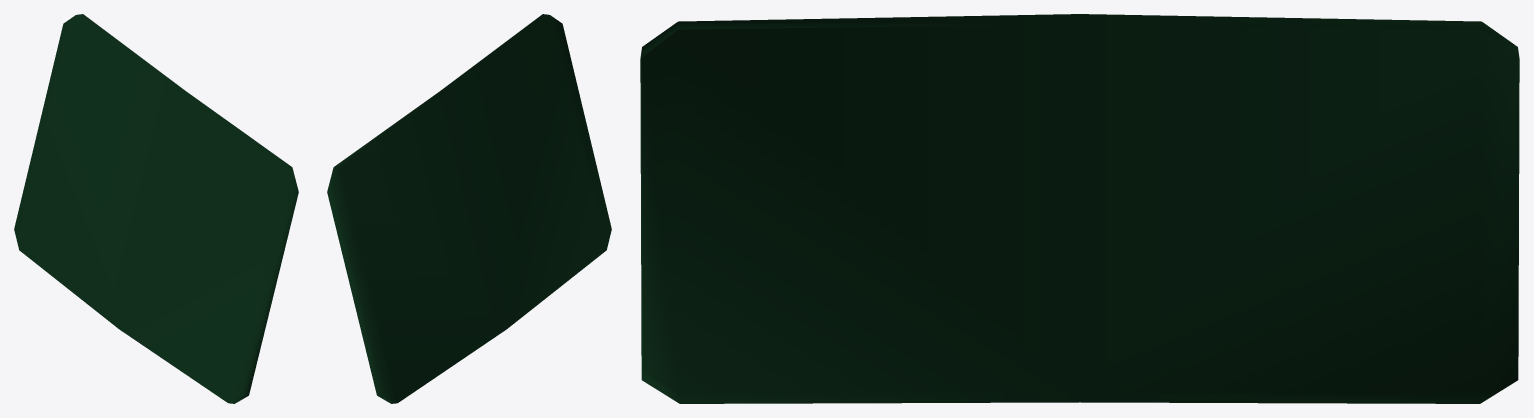
The model's file is Plate_US.obj.
3 renders of one model, left to right at view 1: azimuth 30°, elevation 25°; view 2: azimuth 150°, elevation 25°; view 3: azimuth 270°, elevation 25°, orthographic. The views are drawn at different scales.
Visible parts, largest first — view 1: Plate_US; view 2: Plate_US; view 3: Plate_US.
Boxes of the visible parts, left/top/right/bottom form: Plate_US: left=14, top=14, right=298, bottom=403; Plate_US: left=327, top=14, right=611, bottom=403; Plate_US: left=640, top=14, right=1519, bottom=403.
Bounding box in the file's own units: 0.054 × 0.1709 × 0.3125.
